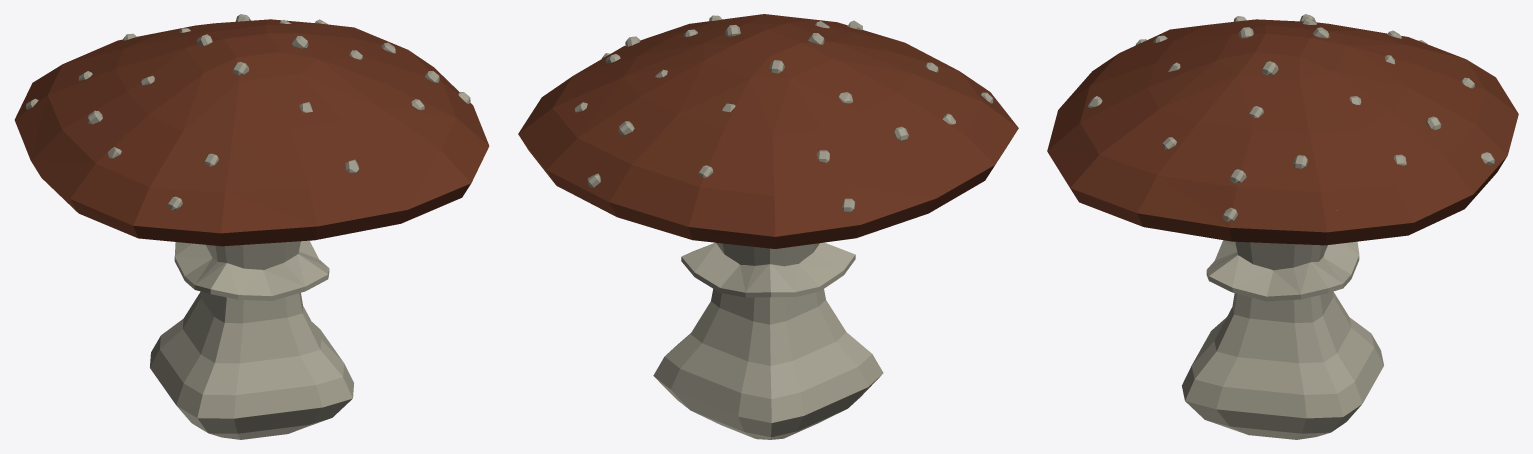
Rendered from plant_mushroom_giant_2.glb.
3 renders of one model, left to right at view 1: azimuth 30°, elevation 25°; view 2: azimuth 150°, elevation 25°; view 3: azimuth 270°, elevation 25°, orthographic.
Visible parts, largest first — view 1: plant_mushroom_giant_2; view 2: plant_mushroom_giant_2; view 3: plant_mushroom_giant_2.
Boxes of the visible parts, x1=… form: plant_mushroom_giant_2: x1=14, y1=14, x2=489, y2=439; plant_mushroom_giant_2: x1=518, y1=14, x2=1018, y2=439; plant_mushroom_giant_2: x1=1047, y1=14, x2=1518, y2=439.
Bounding box in the file's own units: 6.69 × 6 × 6.69.
